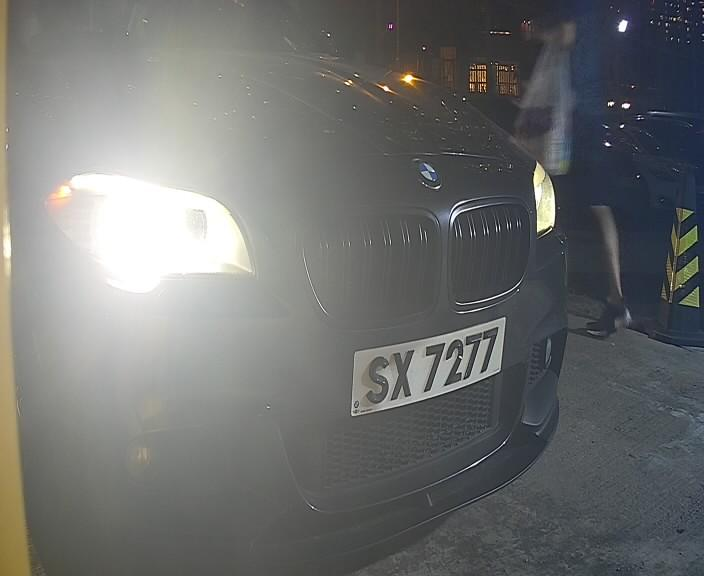License Plate: (337, 312, 519, 438)
